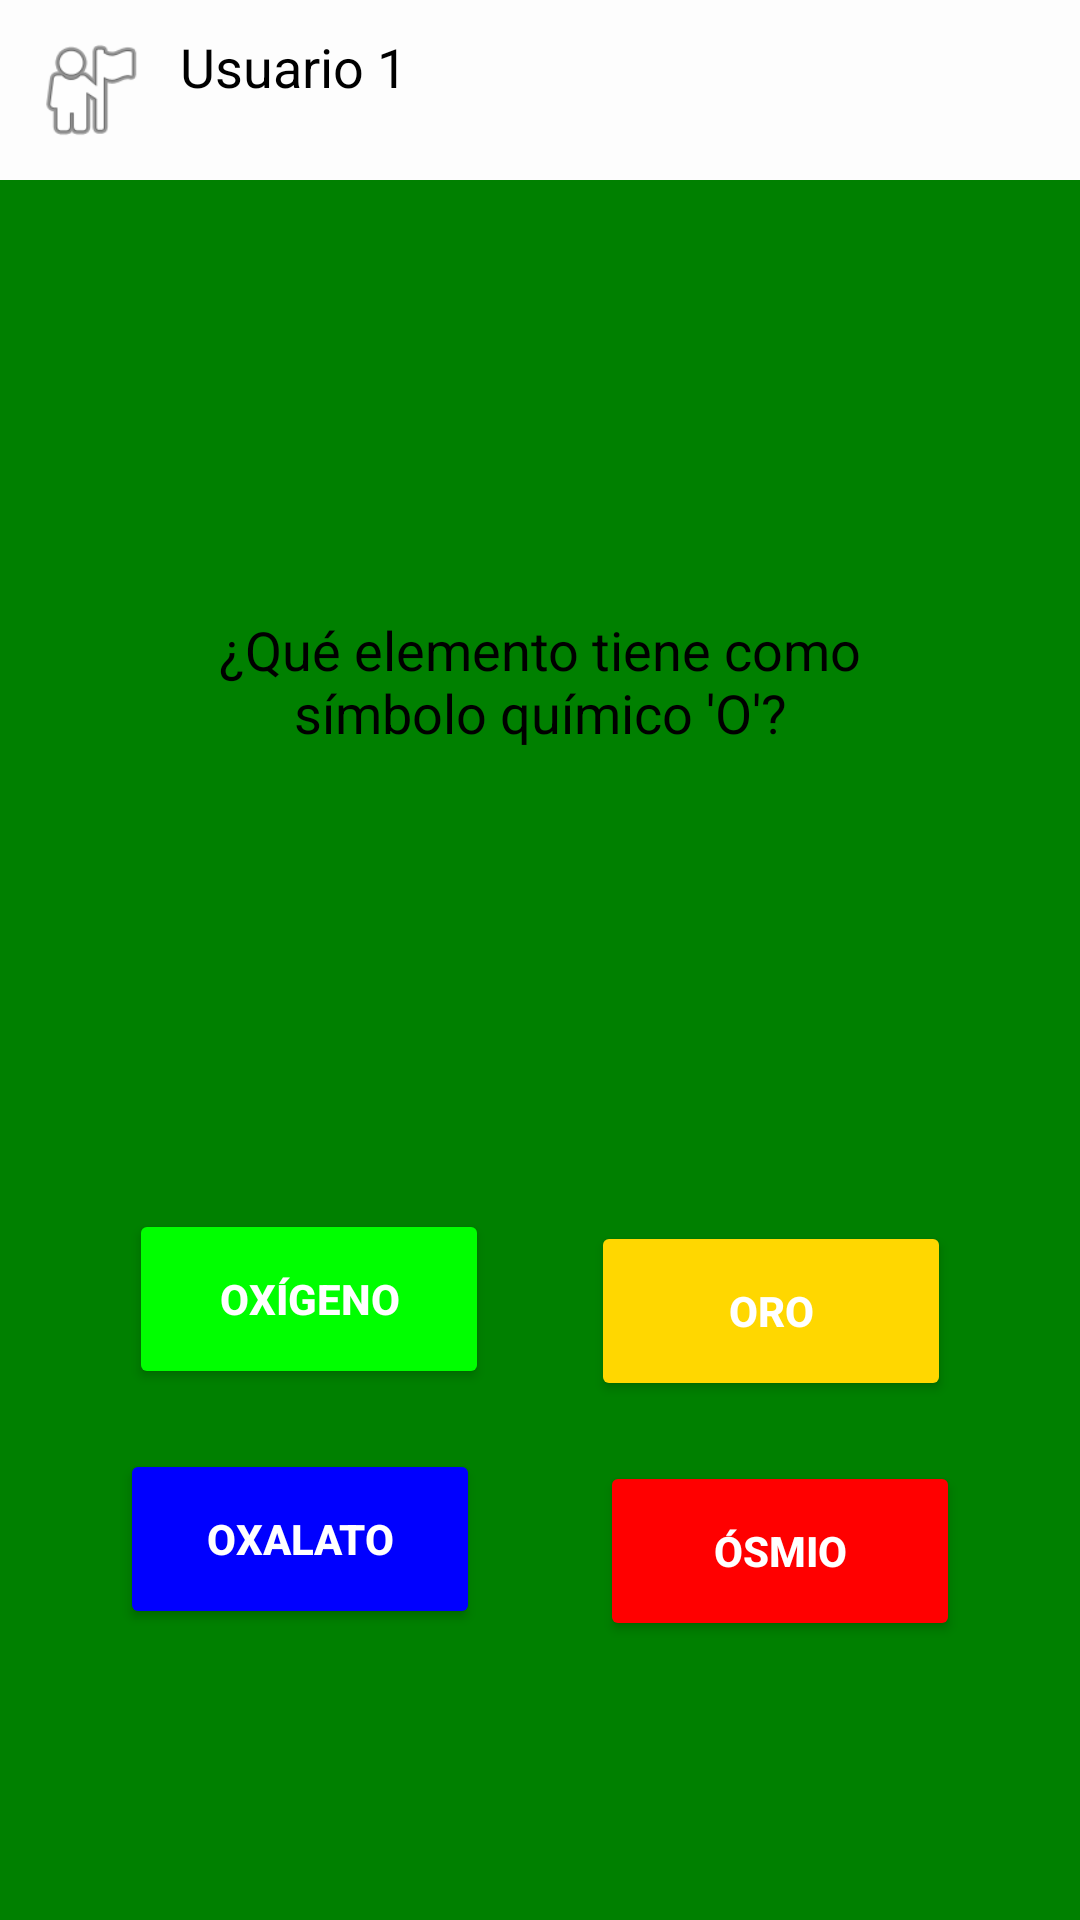

Icon click points for this 1080px x 1920px phone screenshot, format (x=x, y=y):
Ícono de usuario: (x=91, y=90)
